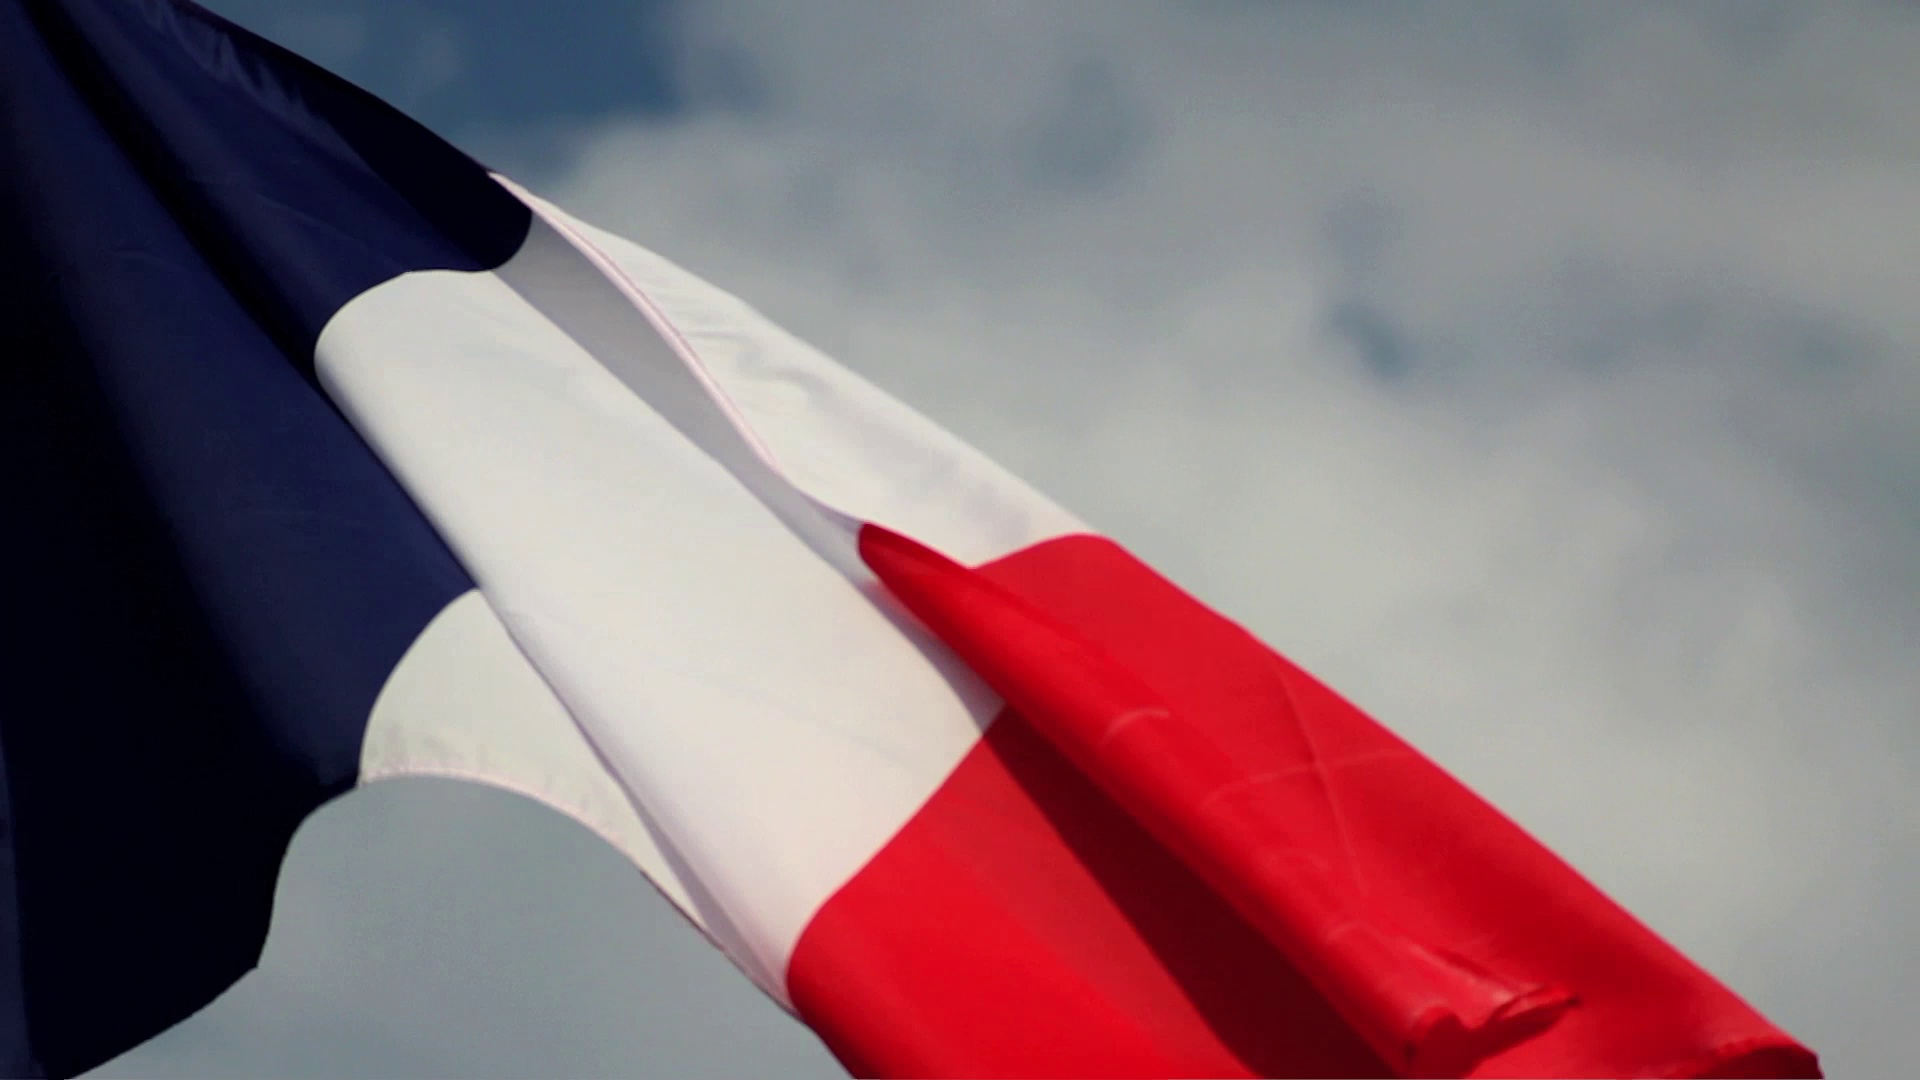French Flag: (1, 1, 1817, 1080)
